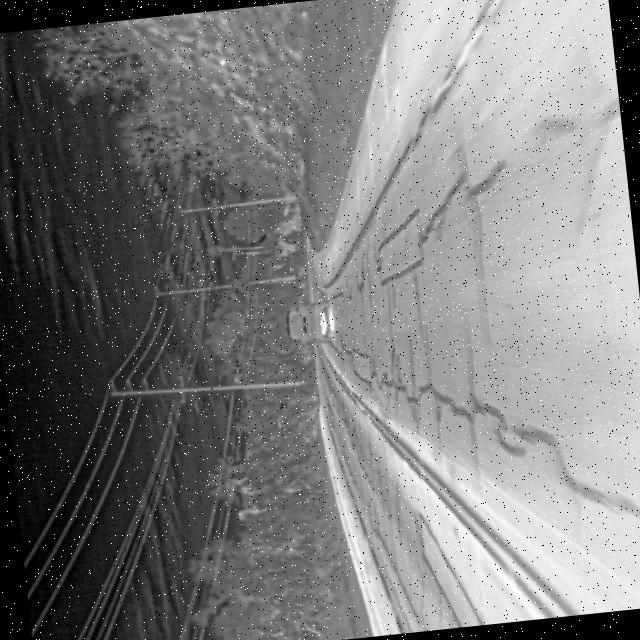Vehicle: (279, 297, 338, 348)
